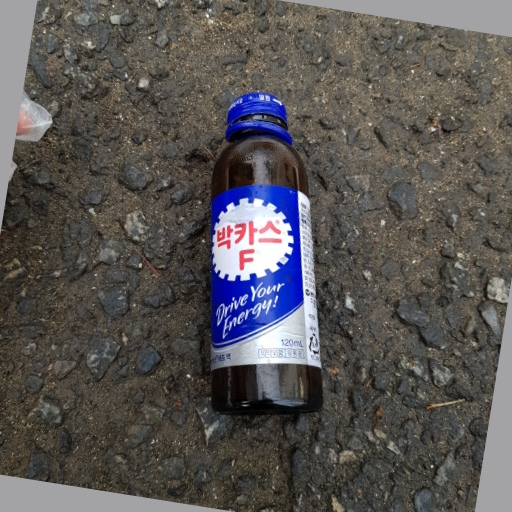Glass_3: (204, 90, 330, 420)
